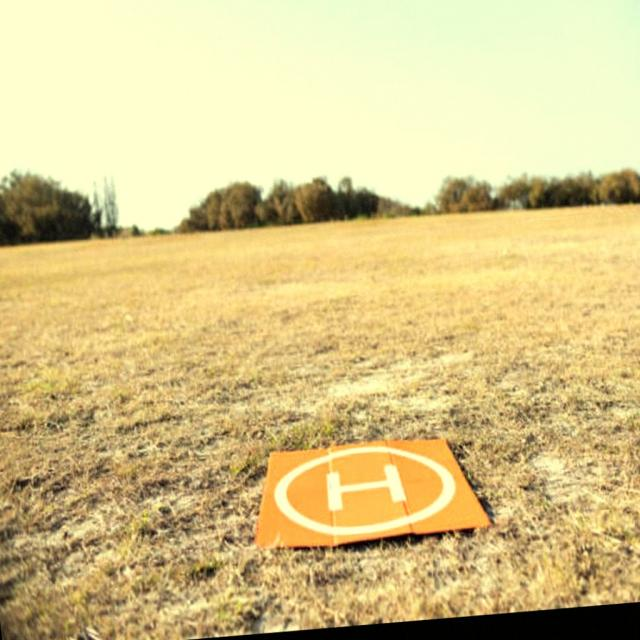helipad: (270, 440, 456, 538)
